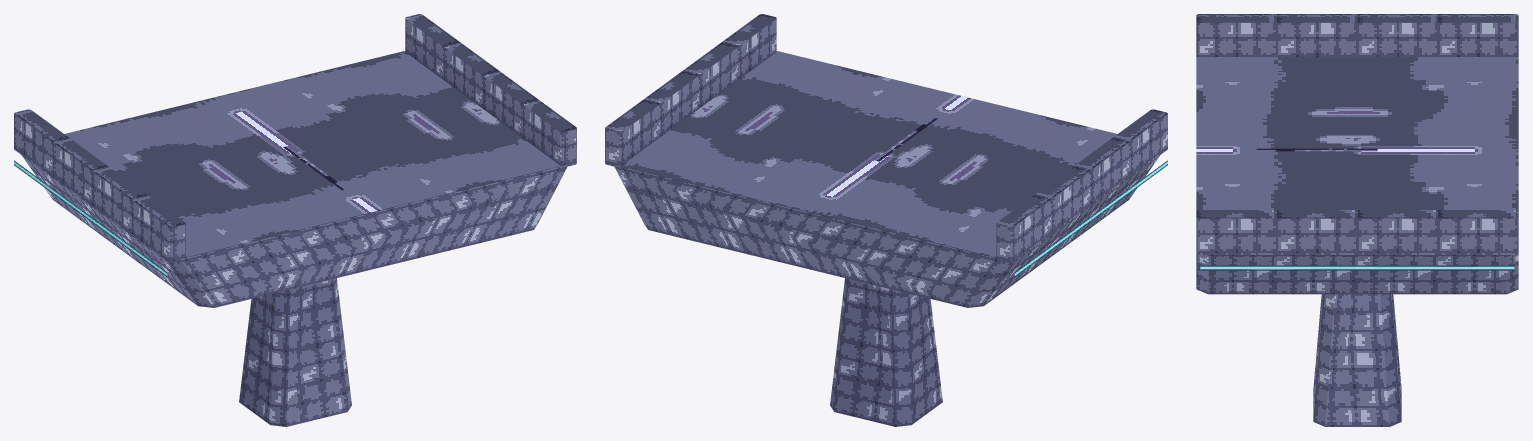
File: cystreet.elevated.glb
3 renders of one model, left to right at view 1: azimuth 30°, elevation 25°; view 2: azimuth 150°, elevation 25°; view 3: azimuth 270°, elevation 25°, orthographic. The views are drawn at different scales.
Visible parts, largest first — view 1: kit_deck, kit_shell_surface, kit_card_neon; view 2: kit_deck, kit_shell_surface, kit_card_neon; view 3: kit_deck, kit_shell_surface, kit_card_neon.
Boxes of the visible parts, x1,y1,x2,y2 form: kit_deck: (14, 14, 576, 426); kit_shell_surface: (64, 51, 560, 257); kit_card_neon: (14, 160, 167, 276); kit_deck: (605, 14, 1167, 426); kit_shell_surface: (621, 51, 1117, 257); kit_card_neon: (1014, 160, 1167, 276); kit_deck: (1196, 14, 1518, 426); kit_shell_surface: (1196, 57, 1518, 210); kit_card_neon: (1200, 265, 1514, 270).
Bounding box in the file's own units: 12.05 × 7.95 × 8.
Materials: 6 (6 with a texture image).
